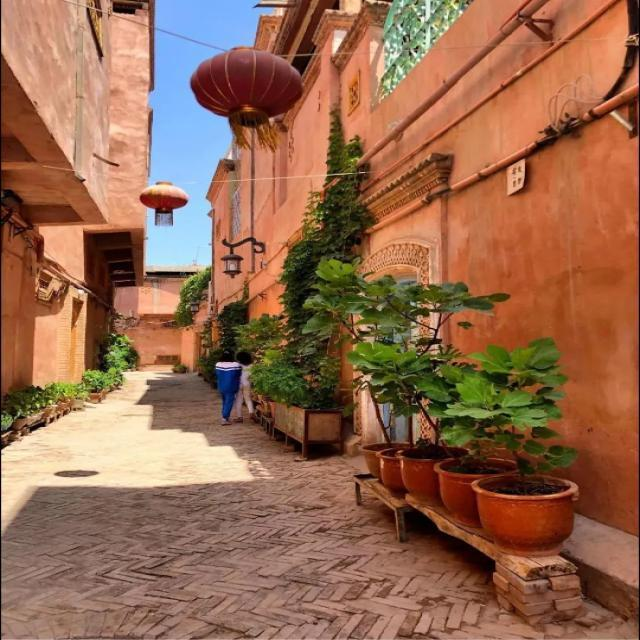manhole: (54, 470, 99, 478)
